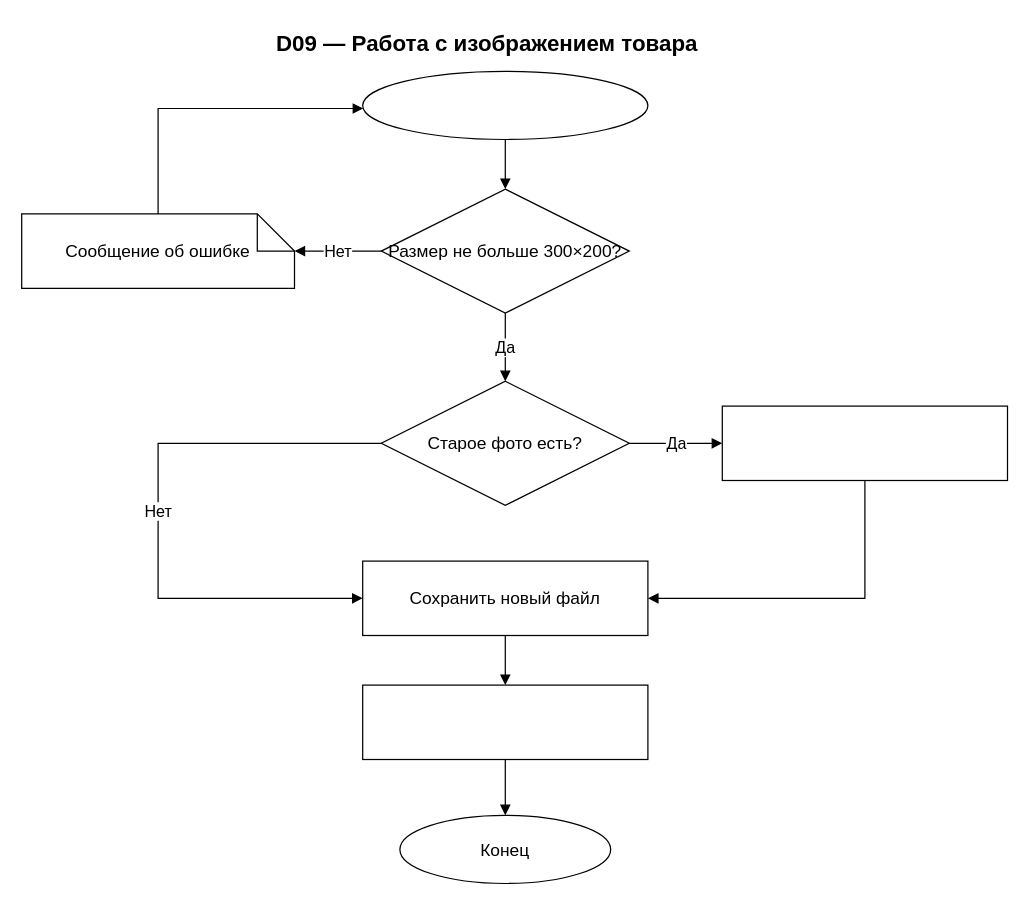
The diagram is 1029 pixels wide and 905 high, and some of its shapes have lost their labels. Here are the shapes that lost their labels. From the top down, the centre of each, then its label:
At point 504,105: "Начало: выбрать фото".
At point 864,442: "Удалить старый файл".
At point 504,722: "Сохранить путь в БД".
